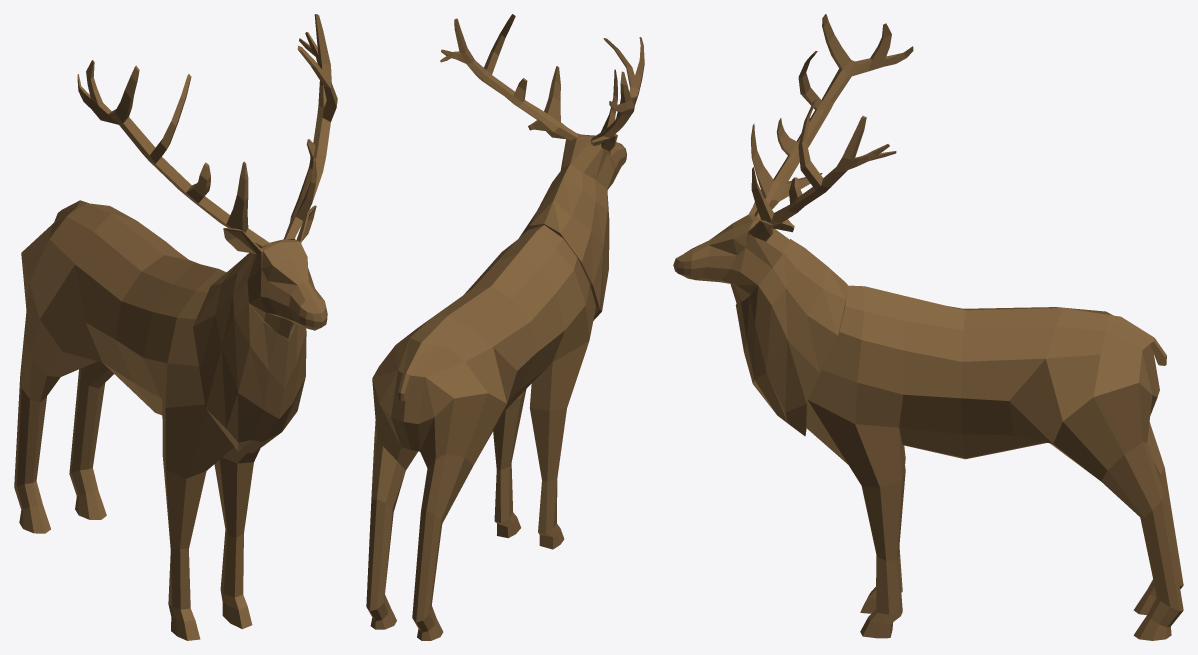
Rendered from deer_final_plane.glb.
3 views of the same model, side by side, from view 1: azimuth 30°, elevation 25°; view 2: azimuth 150°, elevation 25°; view 3: azimuth 270°, elevation 25° (orthographic). The views are drawn at different scales.
Visible parts, largest first — view 1: deer_final_plane; view 2: deer_final_plane; view 3: deer_final_plane.
Boxes of the visible parts, x1,y1,x2,y2 form: deer_final_plane: (14,14,337,640); deer_final_plane: (366,14,644,640); deer_final_plane: (673,14,1183,640).
Bounding box in the file's own units: 1.04 × 2.72 × 2.24.
